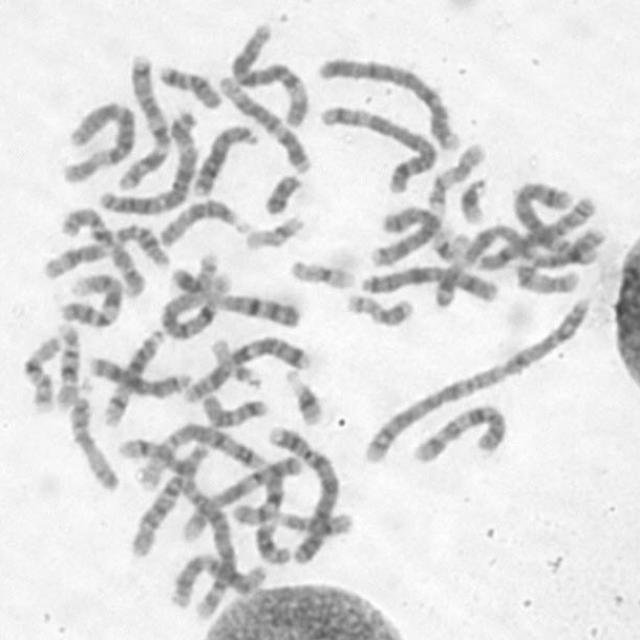A1: (144, 416, 290, 562), (158, 270, 290, 342)
A2: (357, 290, 596, 467), (120, 476, 241, 624)
A3: (436, 218, 613, 311), (92, 103, 202, 216)
B4: (312, 49, 463, 153), (263, 422, 344, 567)
B5: (316, 100, 442, 195), (506, 176, 601, 266)
C10: (57, 202, 148, 300), (407, 398, 510, 466)
C11: (38, 218, 170, 280), (228, 501, 354, 542)
C12: (213, 70, 314, 175), (167, 550, 271, 610)
C6: (226, 17, 310, 130), (59, 96, 140, 186)
C7: (180, 331, 316, 405), (110, 48, 172, 193)
C8: (478, 196, 596, 273), (368, 206, 441, 270)
C9: (178, 451, 306, 545), (57, 268, 125, 329)
D13: (189, 118, 261, 198), (83, 349, 191, 400)
D14: (98, 324, 170, 427), (116, 436, 220, 478)
D15: (65, 386, 123, 493), (153, 192, 252, 249)
E16: (17, 329, 64, 414), (51, 318, 83, 412)
E17: (424, 138, 489, 209), (510, 257, 582, 295)
E18: (154, 58, 225, 111), (197, 388, 272, 429)
F19: (284, 254, 357, 291), (427, 222, 472, 264)
F20: (340, 287, 415, 328), (167, 253, 219, 298)
G21: (280, 364, 326, 427), (455, 172, 491, 226)
G22: (207, 332, 266, 391), (240, 211, 306, 252)
X: (358, 259, 500, 305)
Y: (260, 169, 304, 216)
